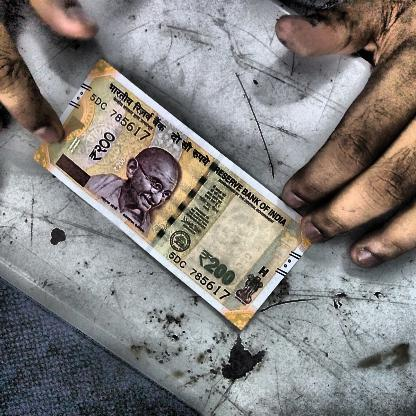Rs200: (192, 245, 242, 292)
